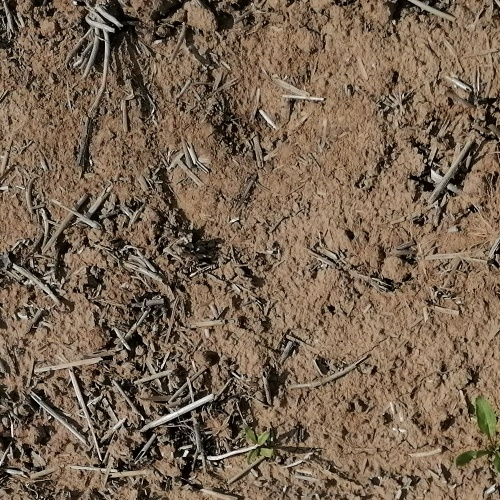beet: (455, 395, 500, 480), (243, 430, 275, 464)
